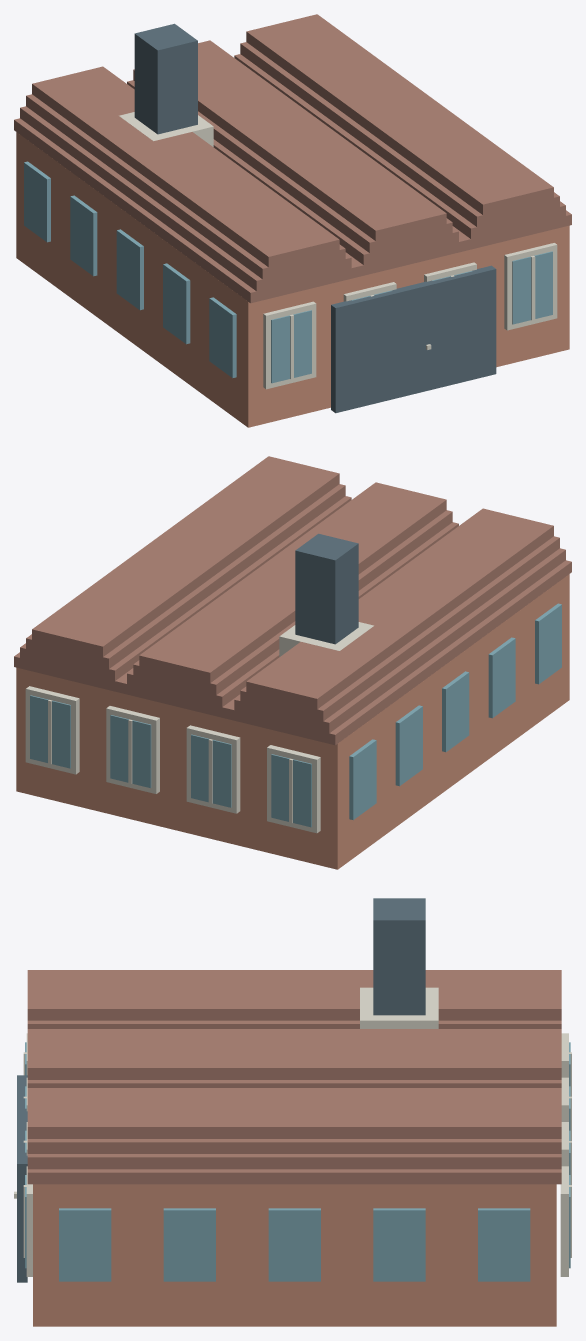
The model's file is predio_oficina.glb.
The picture shows the model from 3 angles, top to bottom: view 1: azimuth 30°, elevation 25°; view 2: azimuth 150°, elevation 25°; view 3: azimuth 270°, elevation 25°; orthographic projection. The views are drawn at different scales.
Visible parts, largest first — view 1: workshop-shed-roof, workshop-shed-brick, workshop-shed-dark, workshop-shed-glass, workshop-shed-concrete; view 2: workshop-shed-roof, workshop-shed-brick, workshop-shed-glass, workshop-shed-concrete, workshop-shed-dark; view 3: workshop-shed-roof, workshop-shed-brick, workshop-shed-glass, workshop-shed-dark, workshop-shed-concrete.
Part boxes in pixels (bbox=[...]): workshop-shed-roof: bbox=[14, 14, 571, 303]; workshop-shed-brick: bbox=[16, 132, 569, 427]; workshop-shed-dark: bbox=[134, 23, 496, 413]; workshop-shed-glass: bbox=[24, 161, 552, 383]; workshop-shed-concrete: bbox=[119, 112, 557, 389]; workshop-shed-roof: bbox=[14, 456, 571, 745]; workshop-shed-brick: bbox=[16, 574, 569, 869]; workshop-shed-glass: bbox=[30, 603, 561, 827]; workshop-shed-concrete: bbox=[25, 622, 373, 833]; workshop-shed-dark: bbox=[295, 533, 358, 644]; workshop-shed-roof: bbox=[27, 970, 561, 1184]; workshop-shed-brick: bbox=[33, 1184, 556, 1326]; workshop-shed-glass: bbox=[25, 1042, 570, 1281]; workshop-shed-dark: bbox=[17, 898, 425, 1282]; workshop-shed-concrete: bbox=[14, 987, 571, 1276].
Size of the model in its own units: 8.2 by 6 by 10.66.
